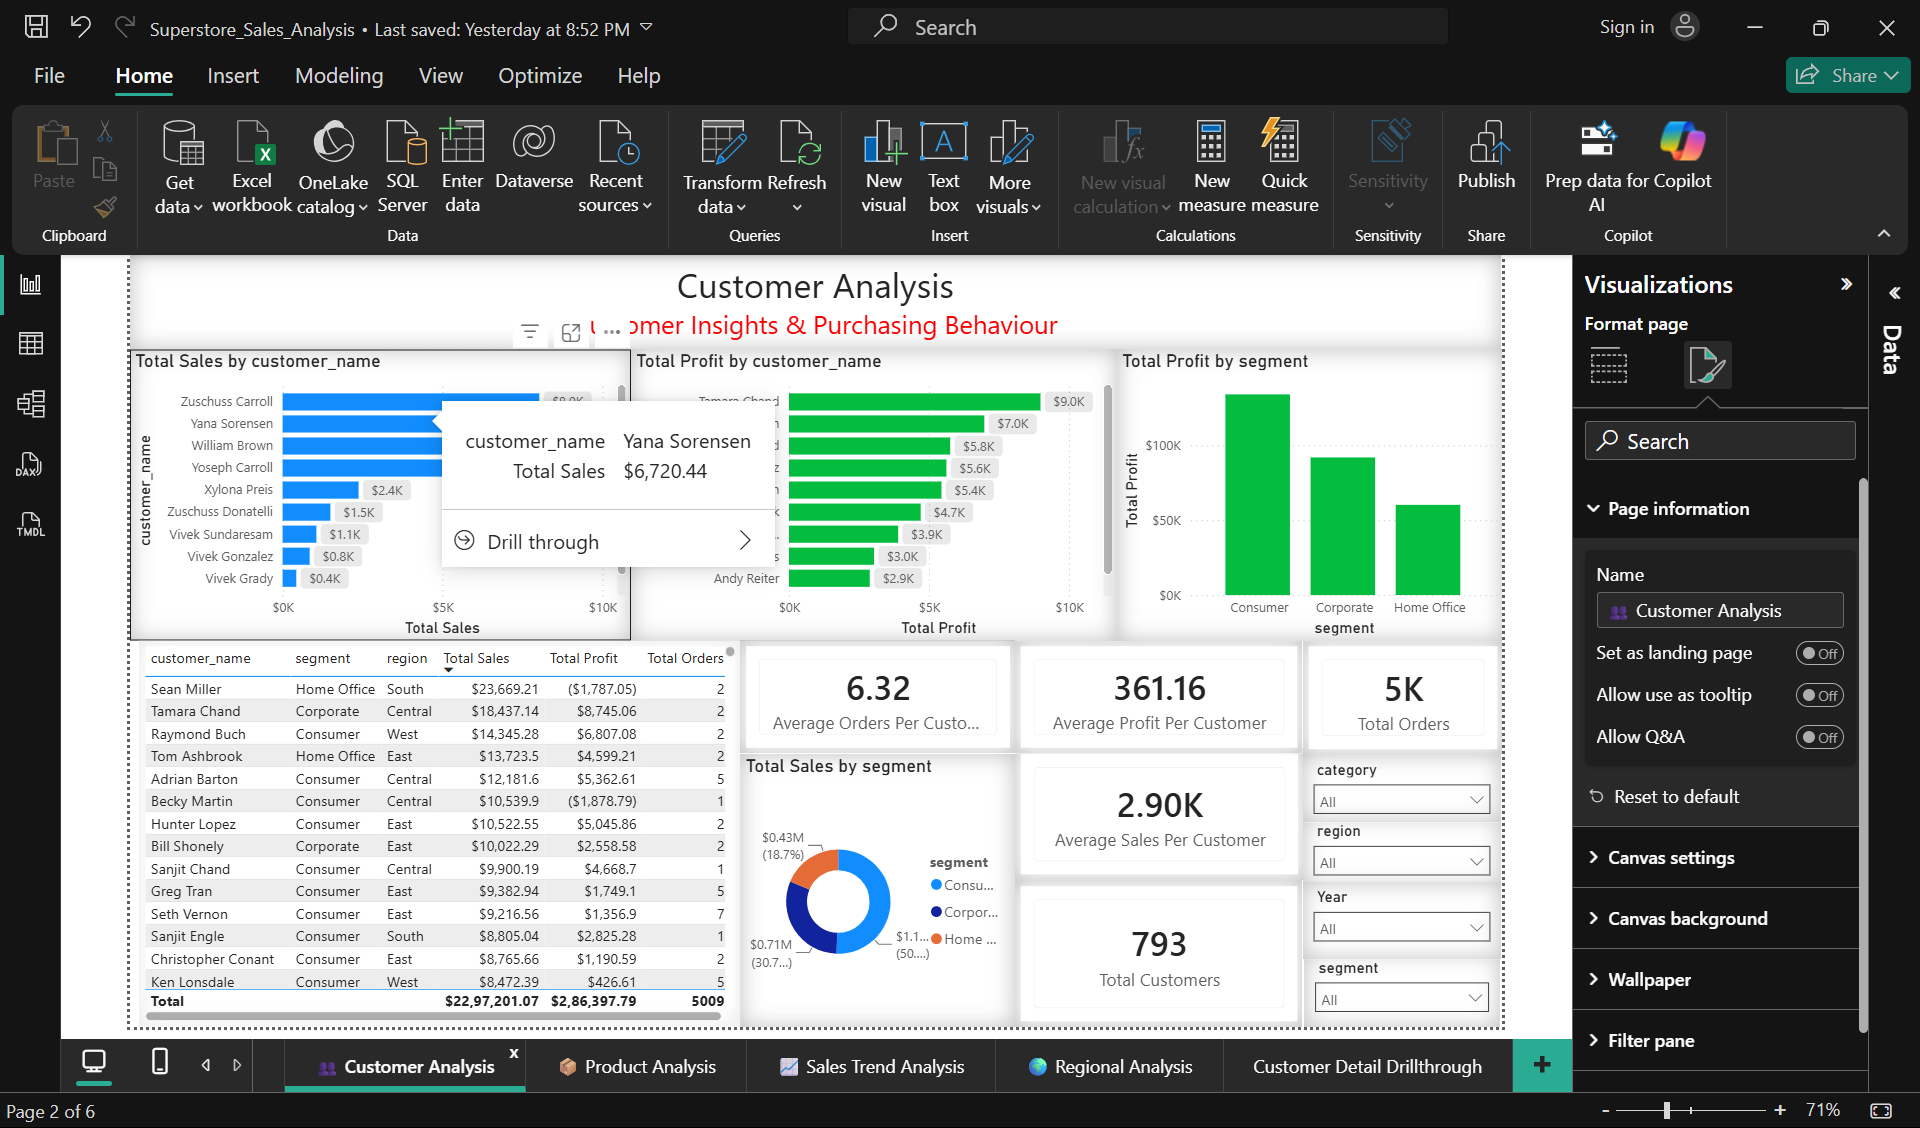

The dashboard page shown, as its layout file describes it:
{"tool":"powerbi","page":{"name":"👥 Customer Analysis","canvas":[1280,720],"ordinal":1},"visuals":[{"type":"textbox","box":[0,0,1278.9,88.3],"z":0},{"type":"cardVisual","fields":{"Data":["public orders.Total Customers"]},"box":[825.5,583.2,268.2,136.7],"z":1000},{"type":"cardVisual","fields":{"Data":["public orders.Average Sales Per Customer"]},"box":[825.5,460.3,270,122.9],"z":2000},{"type":"cardVisual","fields":{"Data":["public orders.Average Profit Per Customer"]},"box":[825.5,360,268.2,105.6],"z":3000},{"type":"cardVisual","fields":{"Data":["public orders.Total Orders"]},"box":[1094,359.5,186.1,106.3],"z":4000},{"type":"clusteredBarChart","fields":{"Y":["public orders.Total Sales"],"Category":["public orders.customer_name"]},"box":[0,88.3,467.2,271.7],"z":5000},{"type":"clusteredBarChart","fields":{"Category":["public orders.customer_name"],"Y":["public orders.Total Profit"]},"box":[467.2,88.3,453.4,271.7],"z":6000},{"type":"donutChart","fields":{"Category":["public orders.segment"],"Y":["public orders.Total Sales"]},"box":[569.4,465.4,255.8,254.4],"z":7000},{"type":"columnChart","fields":{"Category":["public orders.segment"],"Y":["public orders.Total Profit"]},"box":[920.6,88.3,360,271.7],"z":8000},{"type":"tableEx","fields":{"Values":["public orders.customer_name","public orders.segment","public orders.region","public orders.Total Sales","public orders.Total Profit","public orders.Total Orders"]},"box":[8.7,359.9,560.8,359.9],"z":9000},{"type":"group","id":"g1","title":"Group 1","box":[1094,465.9,184.7,254.6],"z":10000},{"type":"cardVisual","fields":{"Data":["public orders.Average Orders Per Customer"]},"box":[569.3,360,256.1,105.6],"z":11000},{"type":"slicer","fields":{"Values":["public orders.segment"]},"box":[1095.4,650.2,182,70.1],"z":14000,"group":"g1"},{"type":"slicer","fields":{"Values":["public orders.region"]},"box":[1094,523.5,184.7,66.9],"z":15000,"group":"g1"},{"type":"slicer","fields":{"Values":["public orders.order_date.Variation.Date Hierarchy.Year"]},"box":[1094,584.4,184.7,71.7],"z":16000,"group":"g1"},{"type":"slicer","fields":{"Values":["public orders.category"]},"box":[1094,465.9,184.7,63.6],"z":17000,"group":"g1"}]}

Visuals, with their boxes on the page's 1280x720 design canvas (x1, y1, x2, y2). These are canvas units, not pixel positions in the 1920x1128 screenshot, which may show the page scaled, cropped or inside an application window:
textbox: left=0, top=0, right=1279, bottom=88
cardVisual - public orders.Total Customers: left=826, top=583, right=1094, bottom=720
cardVisual - public orders.Average Sales Per Customer: left=826, top=460, right=1096, bottom=583
cardVisual - public orders.Average Profit Per Customer: left=826, top=360, right=1094, bottom=466
cardVisual - public orders.Total Orders: left=1094, top=360, right=1280, bottom=466
clusteredBarChart - public orders.Total Sales x public orders.customer_name: left=0, top=88, right=467, bottom=360
clusteredBarChart - public orders.customer_name x public orders.Total Profit: left=467, top=88, right=921, bottom=360
donutChart - public orders.segment x public orders.Total Sales: left=569, top=465, right=825, bottom=720
columnChart - public orders.segment x public orders.Total Profit: left=921, top=88, right=1281, bottom=360
tableEx - public orders.customer_name x public orders.segment: left=9, top=360, right=570, bottom=720
"Group 1" group: left=1094, top=466, right=1279, bottom=720
cardVisual - public orders.Average Orders Per Customer: left=569, top=360, right=825, bottom=466
slicer - public orders.segment: left=1095, top=650, right=1277, bottom=720
slicer - public orders.region: left=1094, top=524, right=1279, bottom=590
slicer - public orders.order_date.Variation.Date Hierarchy.Year: left=1094, top=584, right=1279, bottom=656
slicer - public orders.category: left=1094, top=466, right=1279, bottom=530
